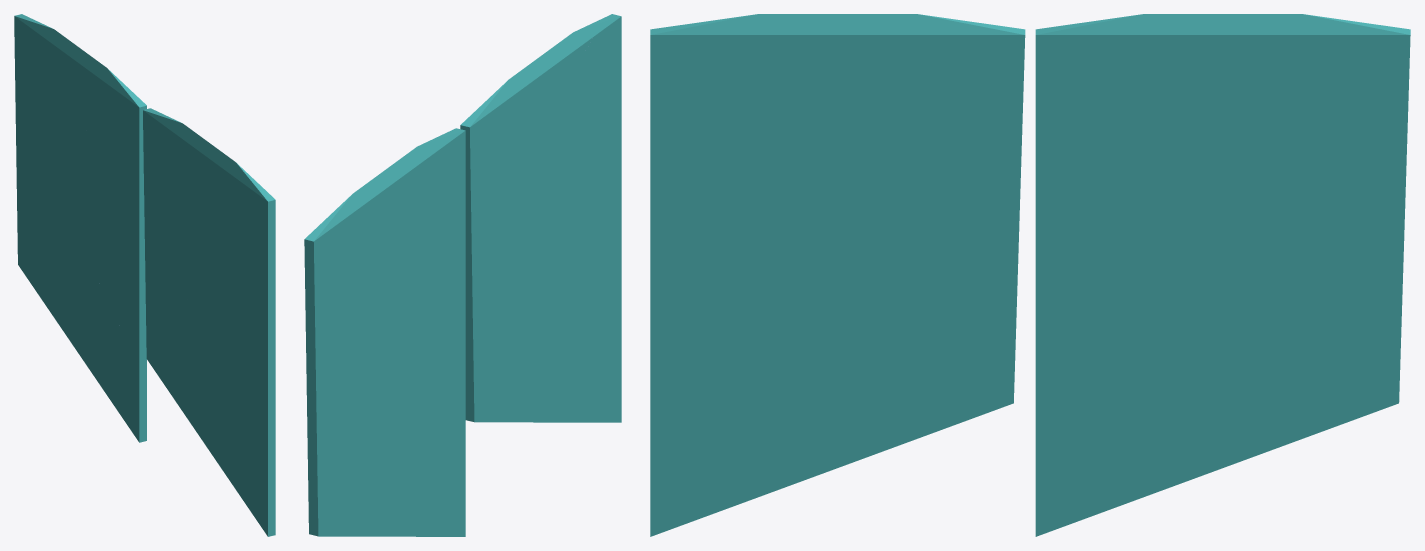
File: Environment_Attachment_Window_A_Shattered.fbx
3 views of the same model, side by side, from view 1: azimuth 30°, elevation 25°; view 2: azimuth 150°, elevation 25°; view 3: azimuth 270°, elevation 25° (orthographic). The views are drawn at different scales.
Visible parts, largest first — view 1: Environment_Attachment_Window_A4, Environment_Attachment_Window_A9, Environment_Attachment_Window_A5, Environment_Attachment_Window_A6, Environment_Attachment_Window_A11, Environment_Attachment_Window_A7, Environment_Attachment_Window_A8, Environment_Attachment_Window_A10; view 2: Environment_Attachment_Window_A4, Environment_Attachment_Window_A9, Environment_Attachment_Window_A6, Environment_Attachment_Window_A11, Environment_Attachment_Window_A5, Environment_Attachment_Window_A7, Environment_Attachment_Window_A8, Environment_Attachment_Window_A10; view 3: Environment_Attachment_Window_A4, Environment_Attachment_Window_A9, Environment_Attachment_Window_A6, Environment_Attachment_Window_A5, Environment_Attachment_Window_A7, Environment_Attachment_Window_A11, Environment_Attachment_Window_A8, Environment_Attachment_Window_A10.
Part boxes in pixels (left/top/right/bottom): Environment_Attachment_Window_A4: left=14, top=14, right=103, bottom=216; Environment_Attachment_Window_A9: left=17, top=212, right=146, bottom=441; Environment_Attachment_Window_A5: left=174, top=182, right=275, bottom=325; Environment_Attachment_Window_A6: left=67, top=66, right=136, bottom=341; Environment_Attachment_Window_A11: left=127, top=96, right=193, bottom=370; Environment_Attachment_Window_A7: left=139, top=289, right=247, bottom=506; Environment_Attachment_Window_A8: left=226, top=322, right=275, bottom=536; Environment_Attachment_Window_A10: left=134, top=100, right=256, bottom=202; Environment_Attachment_Window_A4: left=304, top=150, right=414, bottom=474; Environment_Attachment_Window_A9: left=308, top=390, right=465, bottom=536; Environment_Attachment_Window_A6: left=378, top=132, right=454, bottom=435; Environment_Attachment_Window_A11: left=447, top=131, right=530, bottom=449; Environment_Attachment_Window_A5: left=508, top=14, right=621, bottom=255; Environment_Attachment_Window_A7: left=442, top=236, right=597, bottom=536; Environment_Attachment_Window_A8: left=571, top=166, right=621, bottom=422; Environment_Attachment_Window_A10: left=450, top=22, right=598, bottom=183; Environment_Attachment_Window_A4: left=1154, top=14, right=1410, bottom=326; Environment_Attachment_Window_A9: left=1035, top=278, right=1401, bottom=515; Environment_Attachment_Window_A6: left=1061, top=14, right=1249, bottom=399; Environment_Attachment_Window_A5: left=650, top=22, right=931, bottom=261; Environment_Attachment_Window_A7: left=711, top=249, right=1093, bottom=536; Environment_Attachment_Window_A11: left=875, top=25, right=1071, bottom=428; Environment_Attachment_Window_A8: left=650, top=220, right=775, bottom=536; Environment_Attachment_Window_A10: left=701, top=14, right=1052, bottom=139.
Size of the model in its own units: 0.019 by 0.8101 by 1.07.
